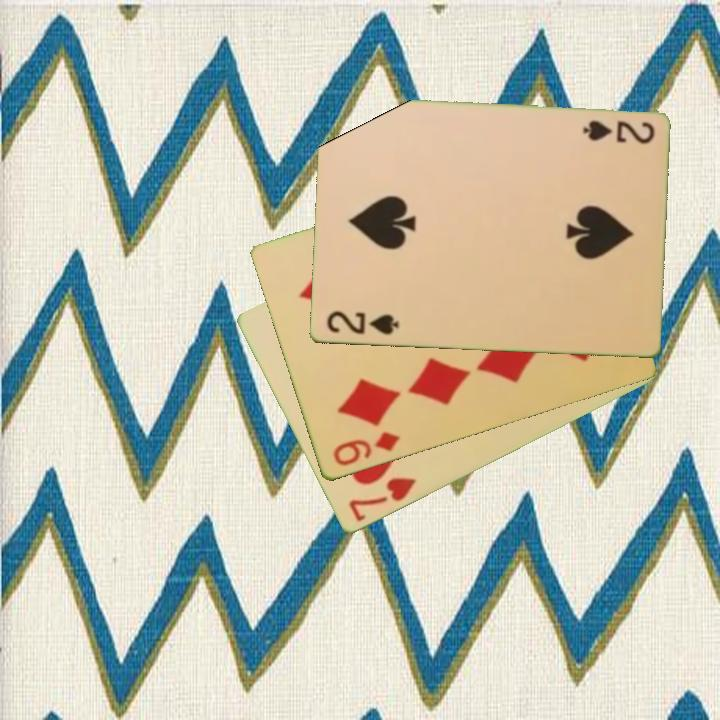2s: (322, 307, 402, 338), (579, 117, 657, 147)
7h: (344, 474, 420, 525)
9d: (329, 428, 403, 470)
